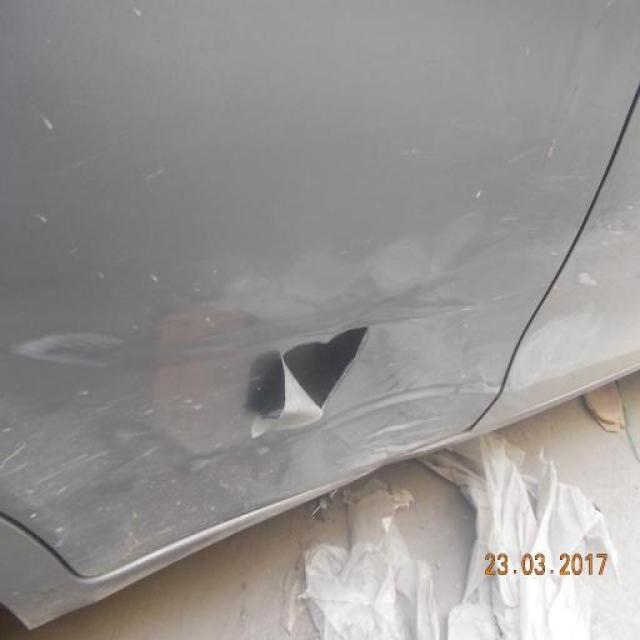tear: (238, 317, 374, 438)
